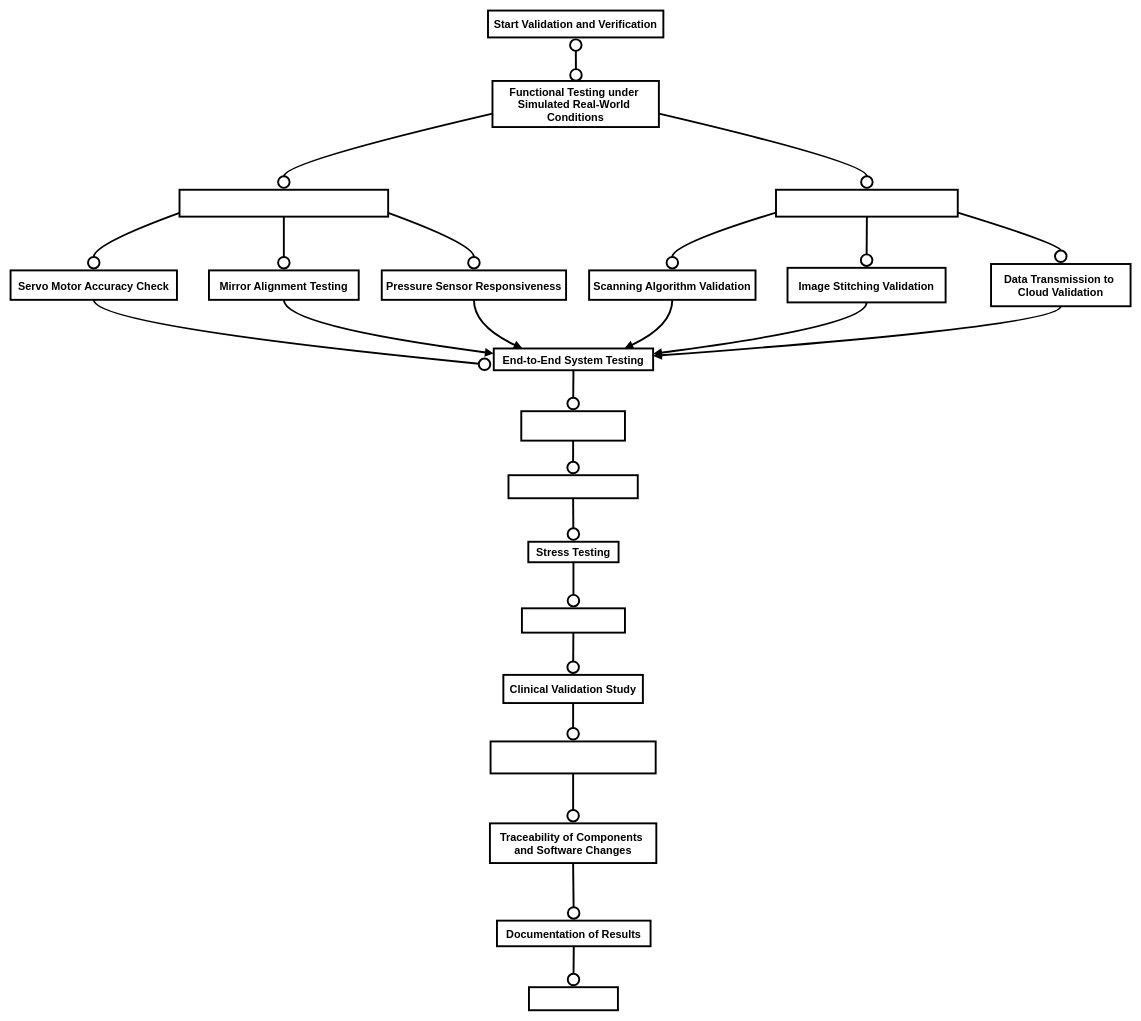
The diagram is 1141 pixels wide and 1021 high, and some of its shapes have lost their labels. Here are the shapes that lost their labels. From the top down, the centre of each, then its label:
At (283,202): "Hardware Performance Validation".
At (866,202): "Firmware Performance Validation".
At (573,425): "Clinical Testing".
At (572,486): "Environmental Testing".
At (573,620): "Usability Testing".
At (572,757): "Regulatory Compliance Check".
At (573,998): "End of Process".
